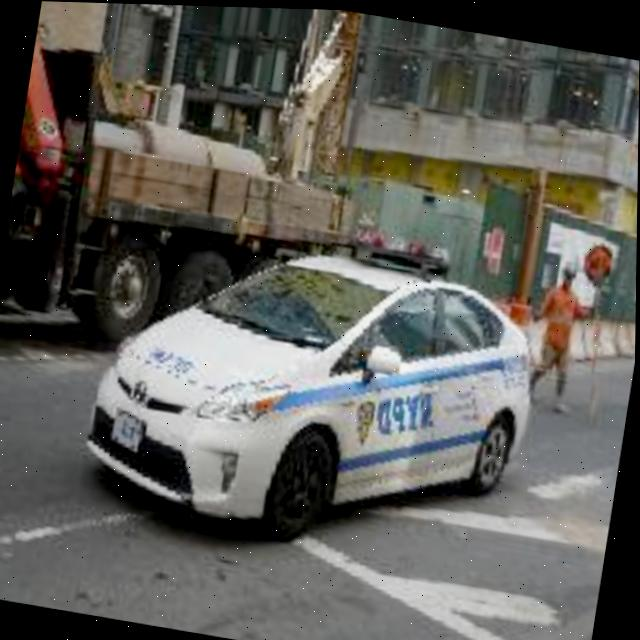emergency: (79, 192, 556, 577)
